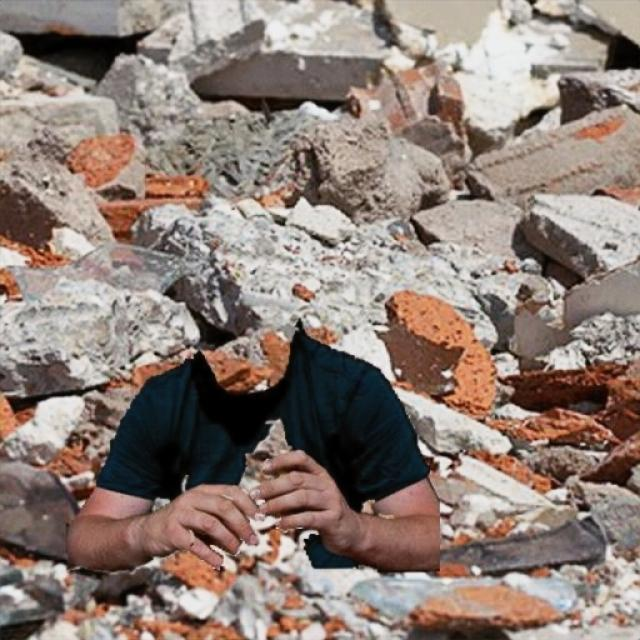Person in Rubble: (66, 318, 439, 572)
